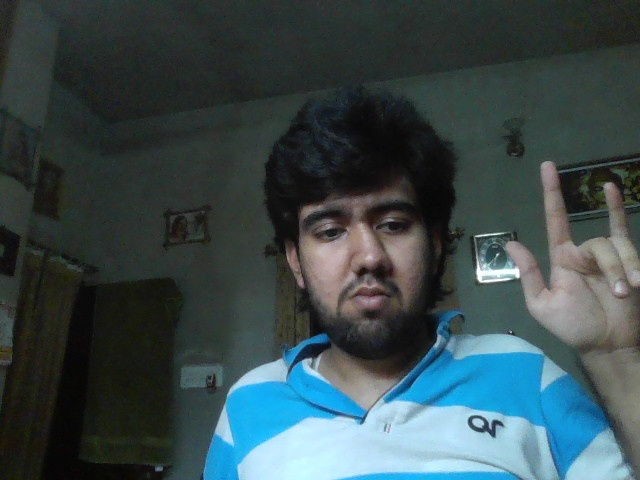ILoveYou: (505, 161, 640, 352)
